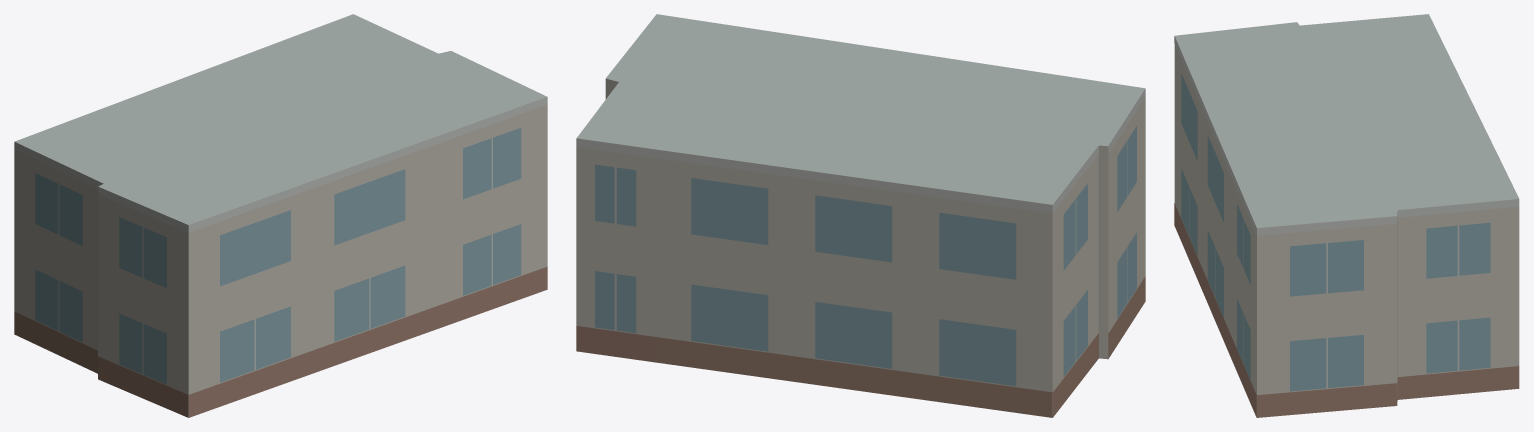
The model's file is survey-upis-32659084.glb.
3 views of the same model, side by side, from view 1: azimuth 30°, elevation 25°; view 2: azimuth 150°, elevation 25°; view 3: azimuth 270°, elevation 25° (orthographic). The views are drawn at different scales.
Visible parts, largest first — view 1: survey-upis-32659084.tmp; view 2: survey-upis-32659084.tmp; view 3: survey-upis-32659084.tmp.
Part boxes in pixels (<box>): survey-upis-32659084.tmp: <box>14,14,547,417</box>; survey-upis-32659084.tmp: <box>576,14,1145,417</box>; survey-upis-32659084.tmp: <box>1174,14,1519,417</box>.
Size of the model in its own units: 14.78 by 6.1 by 10.06.
